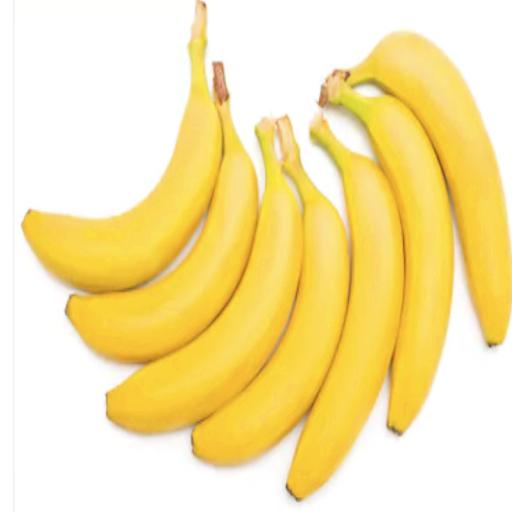banana: (106, 119, 301, 432), (22, 0, 220, 292), (65, 64, 257, 362), (192, 117, 348, 464), (343, 33, 511, 344), (322, 72, 452, 432), (287, 114, 402, 499)
